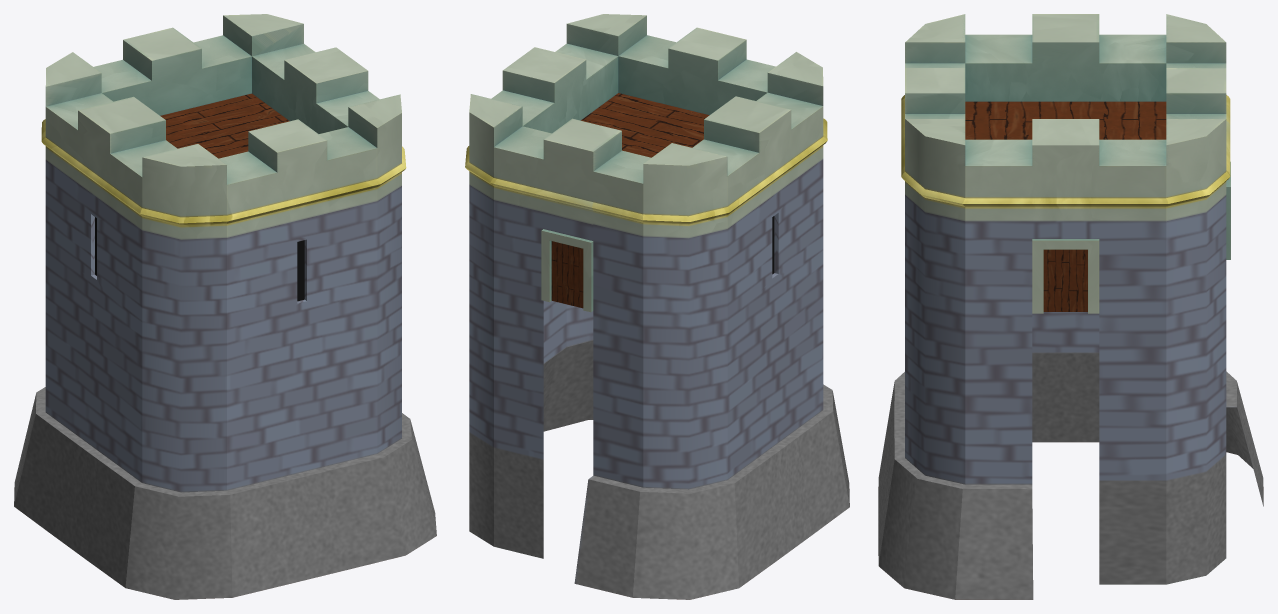
File: SM_Castle_StoneTower_Corner.fbx
3 views of the same model, side by side, from view 1: azimuth 30°, elevation 25°; view 2: azimuth 150°, elevation 25°; view 3: azimuth 270°, elevation 25° (orthographic). The views are drawn at different scales.
Parts seen in each view (by area): view 1: SM_StoneTower_Corner; view 2: SM_StoneTower_Corner; view 3: SM_StoneTower_Corner.
Part boxes in pixels (x1,y1,x2,y2): SM_StoneTower_Corner: (14, 14, 436, 599); SM_StoneTower_Corner: (465, 14, 849, 599); SM_StoneTower_Corner: (878, 14, 1263, 599).
Bounding box in the file's own units: 1859 × 2414 × 1919.
